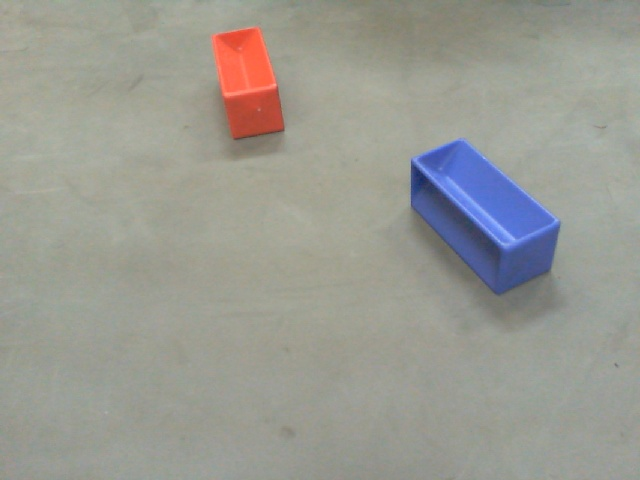BlueSample: (410, 133, 562, 296)
RedSample: (208, 26, 290, 145)
